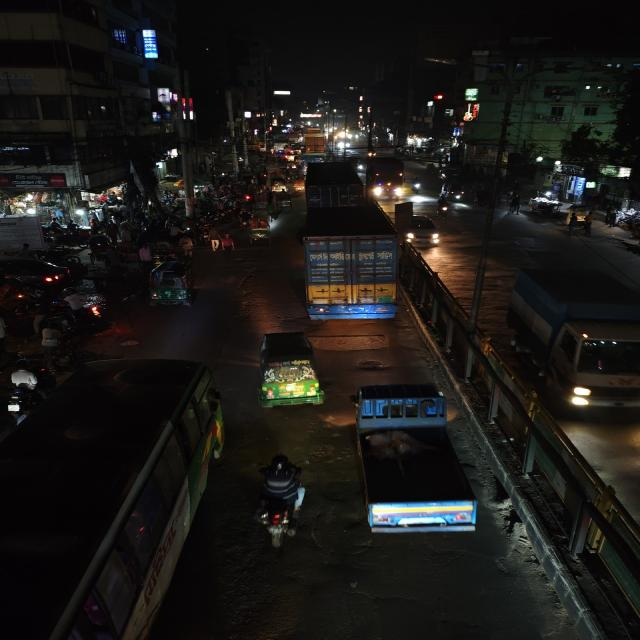bus: (0, 355, 226, 640)
car: (0, 255, 77, 291), (406, 215, 442, 248)
cng: (252, 328, 326, 412), (142, 261, 196, 309), (442, 184, 467, 202), (268, 176, 288, 194)
motorcycle: (247, 450, 310, 551), (2, 364, 48, 418), (436, 196, 454, 218), (410, 177, 426, 195)
pedestrian: (34, 318, 71, 356), (218, 232, 236, 254)
pickup_van: (344, 378, 482, 540)
rickshaw: (85, 235, 124, 273), (246, 216, 275, 246), (274, 192, 293, 215)
truck: (503, 265, 640, 417), (296, 195, 400, 325), (299, 170, 370, 209), (366, 156, 407, 201)
